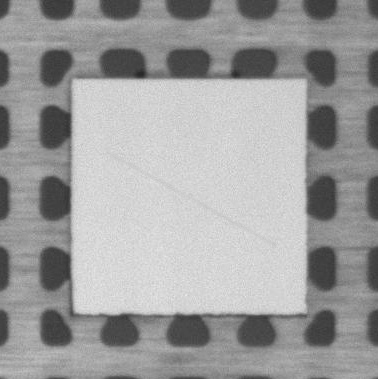DIE_CRACK: (107, 152, 274, 246)
